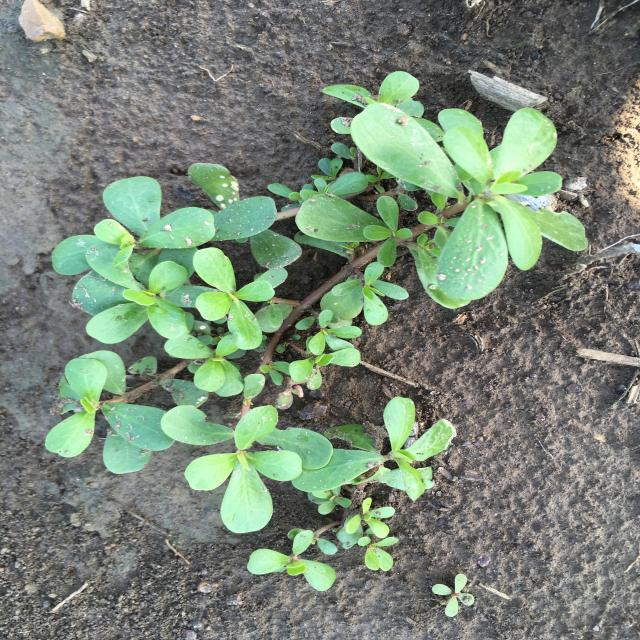Purslane: (45, 71, 588, 591), (432, 573, 474, 617)
